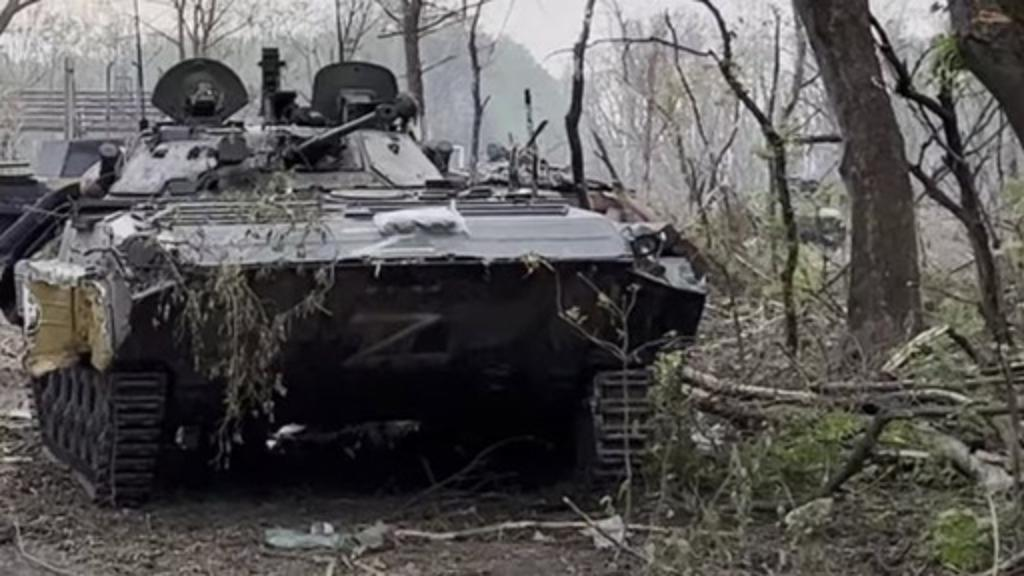APC-IFV: (14, 54, 710, 502)
